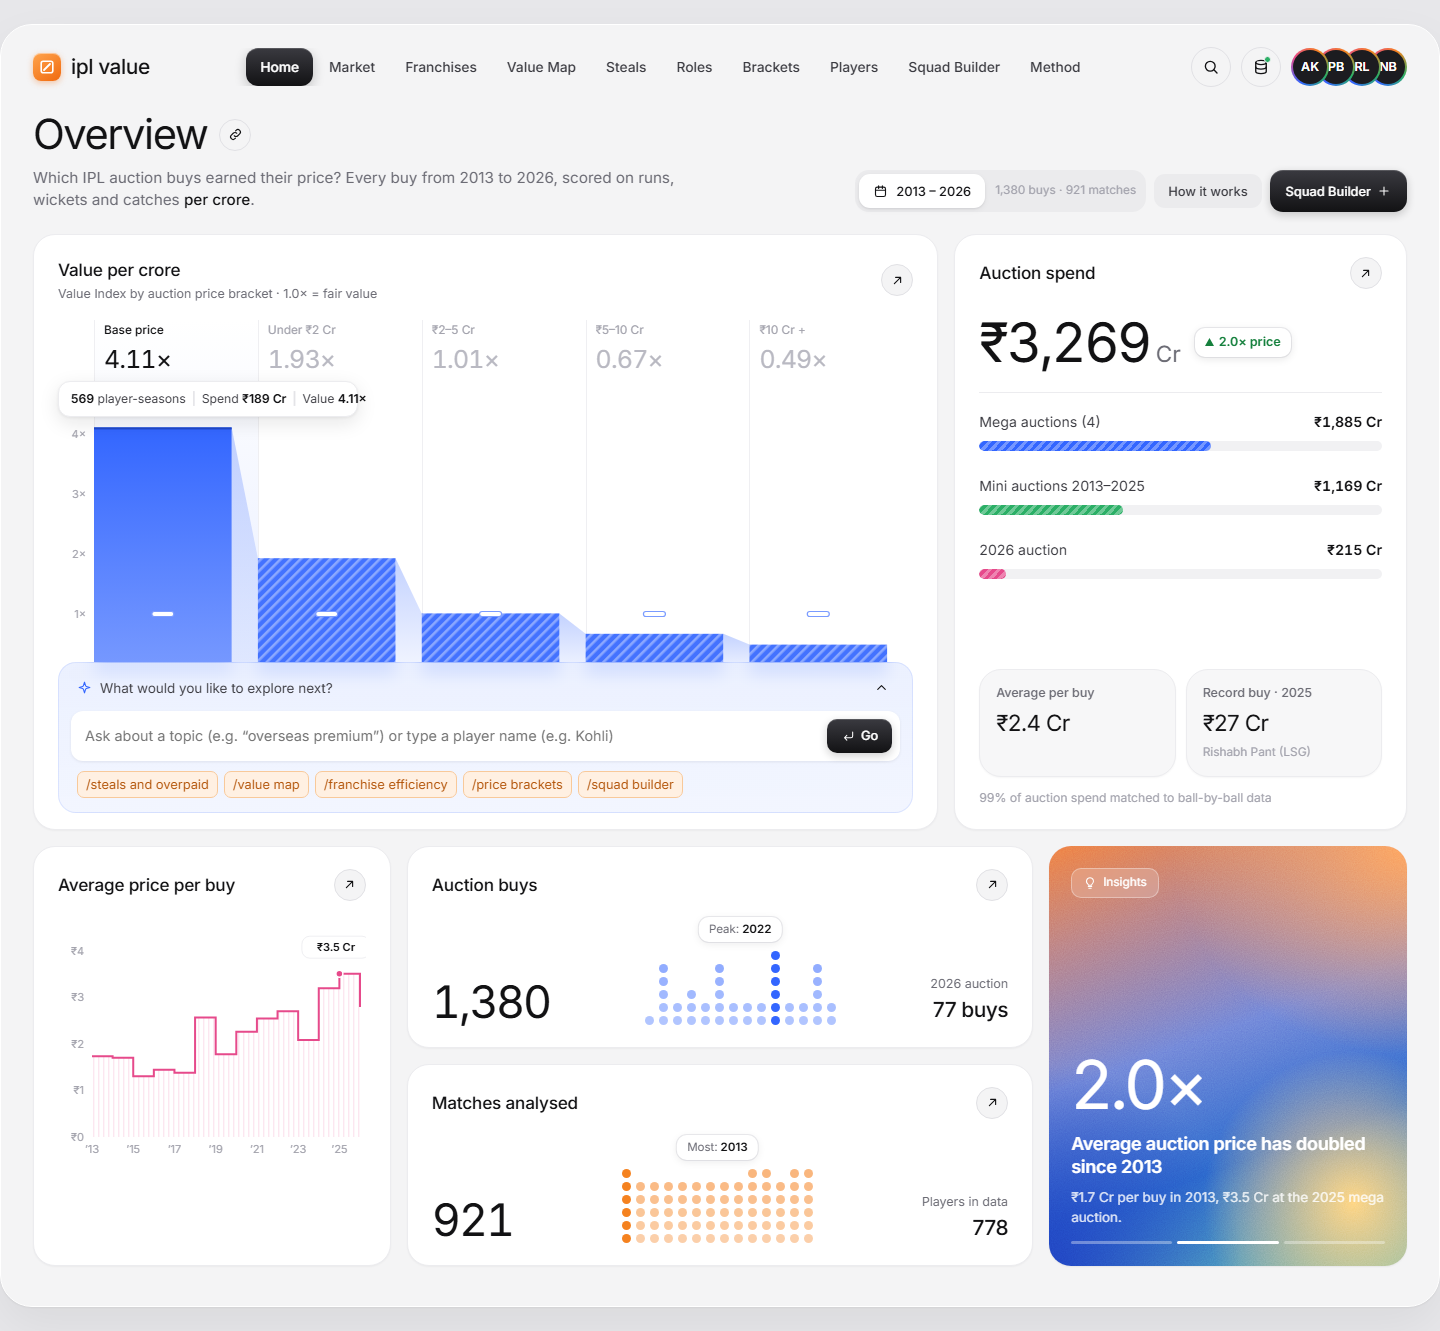

This screenshot's page, from the dashboard's own definition file:
{"tool":"powerbi","page":{"name":"Home","canvas":[1280,720],"ordinal":0},"visuals":[{"type":"textbox","box":[16,8,270,66],"z":1000},{"type":"textbox","box":[300,14,748,44],"z":2000},{"type":"actionButton","title":"Home","box":[306,20,88,32],"z":3000},{"type":"actionButton","title":"Market","box":[398,20,88,32],"z":4000},{"type":"actionButton","title":"Franchises","box":[490,20,88,32],"z":5000},{"type":"actionButton","title":"Value Map","box":[582,20,88,32],"z":6000},{"type":"actionButton","title":"Steals","box":[674,20,88,32],"z":7000},{"type":"actionButton","title":"Roles","box":[766,20,88,32],"z":8000},{"type":"actionButton","title":"Brackets","box":[858,20,88,32],"z":9000},{"type":"actionButton","title":"Method","box":[950,20,88,32],"z":10000},{"type":"actionButton","title":"i","box":[1062,14,44,44],"z":11000},{"type":"textbox","box":[16,84,960,120],"z":12000},{"type":"card","fields":{"Values":["_Measures.Total Auction Spend Cr"]},"box":[16,214,241.6,62],"z":13000},{"type":"card","fields":{"Values":["_Measures.Players Bought"]},"box":[265.6,214,241.6,62],"z":14000},{"type":"card","fields":{"Values":["_Measures.Avg Auction Price Cr"]},"box":[515.2,214,241.6,62],"z":15000},{"type":"card","fields":{"Values":["_Measures.Mega 2025 vs 2013"]},"box":[764.8,214,241.6,62],"z":16000},{"type":"card","fields":{"Values":["_Measures.Spend Matched %"]},"box":[1014.4,214,241.6,62],"z":17000},{"type":"textbox","box":[224,312,340,118],"z":18000},{"type":"actionButton","title":"button","box":[224,312,340,118],"z":19000},{"type":"textbox","box":[574,312,340,118],"z":20000},{"type":"actionButton","title":"button","box":[574,312,340,118],"z":21000},{"type":"textbox","box":[924,312,340,118],"z":22000},{"type":"actionButton","title":"button","box":[924,312,340,118],"z":23000},{"type":"textbox","box":[224,442,340,118],"z":24000},{"type":"actionButton","title":"button","box":[224,442,340,118],"z":25000},{"type":"textbox","box":[574,442,340,118],"z":26000},{"type":"actionButton","title":"button","box":[574,442,340,118],"z":27000},{"type":"textbox","box":[924,442,340,118],"z":28000},{"type":"actionButton","title":"button","box":[924,442,340,118],"z":29000},{"type":"textbox","box":[224,576,1040,40],"z":30000},{"type":"textbox","box":[16,312,196,392],"z":31000}]}

Visuals, with their boxes on the page's 1280x720 design canvas (x1, y1, x2, y2). These are canvas units, not pixel positions in the 1440x1331 screenshot, which may show the page scaled, cropped or inside an application window:
textbox: l=16, t=8, r=286, b=74
textbox: l=300, t=14, r=1048, b=58
"Home" actionButton: l=306, t=20, r=394, b=52
"Market" actionButton: l=398, t=20, r=486, b=52
"Franchises" actionButton: l=490, t=20, r=578, b=52
"Value Map" actionButton: l=582, t=20, r=670, b=52
"Steals" actionButton: l=674, t=20, r=762, b=52
"Roles" actionButton: l=766, t=20, r=854, b=52
"Brackets" actionButton: l=858, t=20, r=946, b=52
"Method" actionButton: l=950, t=20, r=1038, b=52
"i" actionButton: l=1062, t=14, r=1106, b=58
textbox: l=16, t=84, r=976, b=204
card - _Measures.Total Auction Spend Cr: l=16, t=214, r=258, b=276
card - _Measures.Players Bought: l=266, t=214, r=507, b=276
card - _Measures.Avg Auction Price Cr: l=515, t=214, r=757, b=276
card - _Measures.Mega 2025 vs 2013: l=765, t=214, r=1006, b=276
card - _Measures.Spend Matched %: l=1014, t=214, r=1256, b=276
textbox: l=224, t=312, r=564, b=430
"button" actionButton: l=224, t=312, r=564, b=430
textbox: l=574, t=312, r=914, b=430
"button" actionButton: l=574, t=312, r=914, b=430
textbox: l=924, t=312, r=1264, b=430
"button" actionButton: l=924, t=312, r=1264, b=430
textbox: l=224, t=442, r=564, b=560
"button" actionButton: l=224, t=442, r=564, b=560
textbox: l=574, t=442, r=914, b=560
"button" actionButton: l=574, t=442, r=914, b=560
textbox: l=924, t=442, r=1264, b=560
"button" actionButton: l=924, t=442, r=1264, b=560
textbox: l=224, t=576, r=1264, b=616
textbox: l=16, t=312, r=212, b=704
